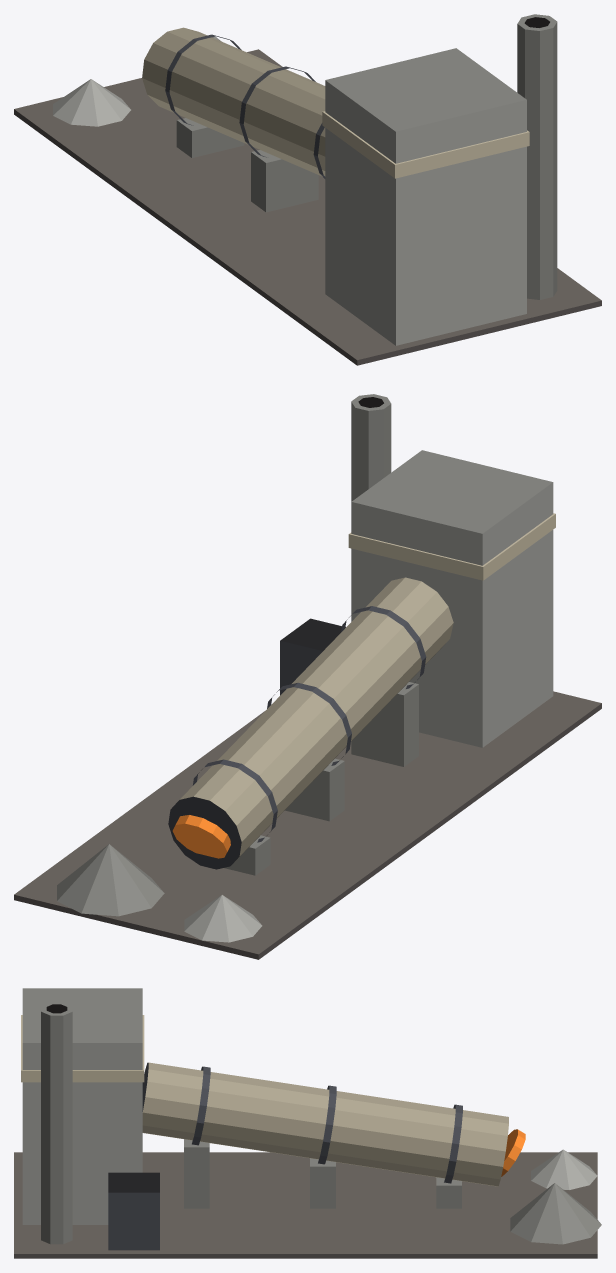
The model's file is cement_kiln.obj.
3 renders of one model, top to bottom at view 1: azimuth 30°, elevation 25°; view 2: azimuth 150°, elevation 25°; view 3: azimuth 270°, elevation 25°, orthographic. The views are drawn at different scales.
Size of the model in its own units: 2.8 by 3 by 6.85.
